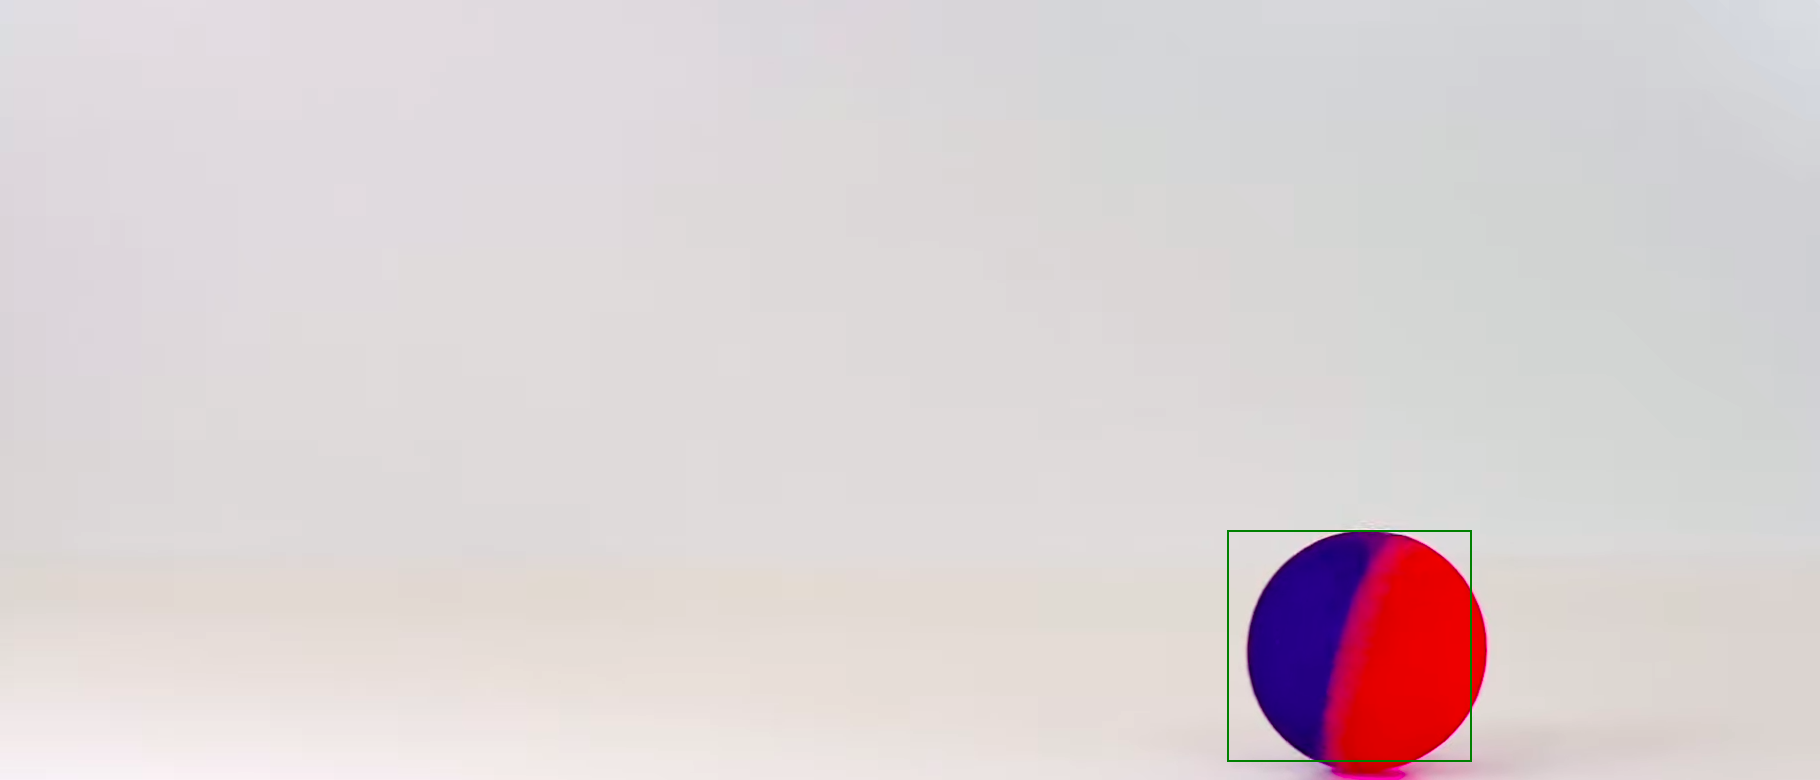Circle: (1245, 528, 1490, 772)
